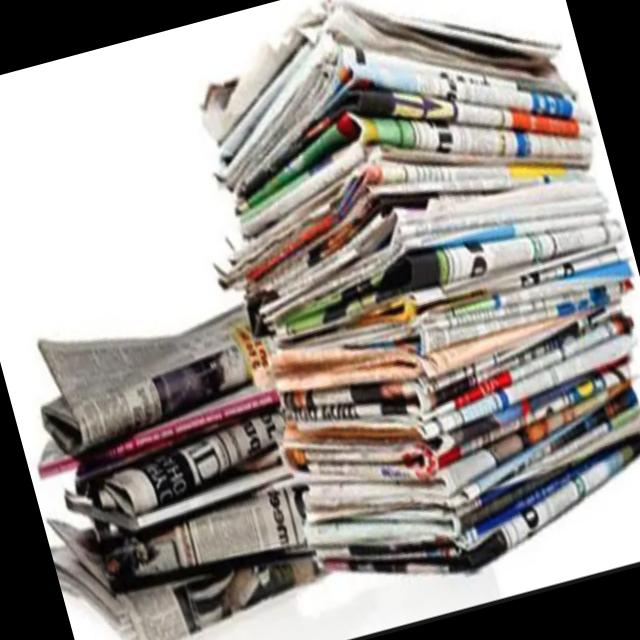Koran: (153, 0, 640, 616), (0, 278, 337, 640)
